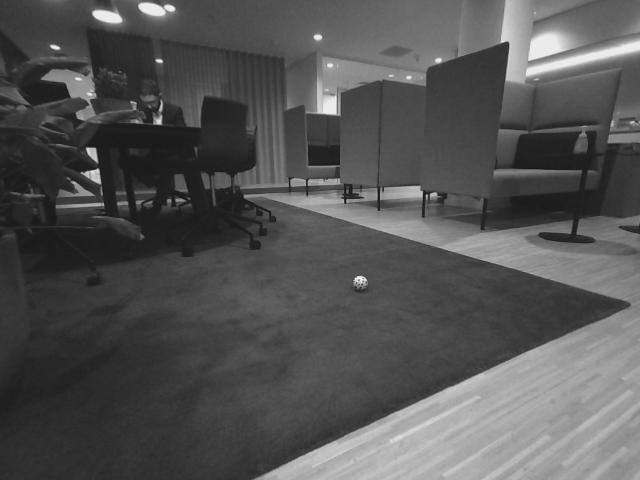dogtoy: (346, 272, 374, 296)
